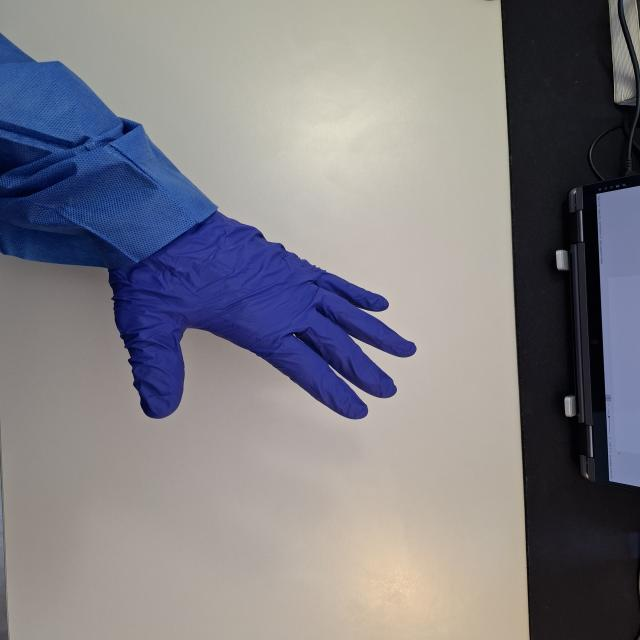glove_on: (105, 208, 419, 422)
